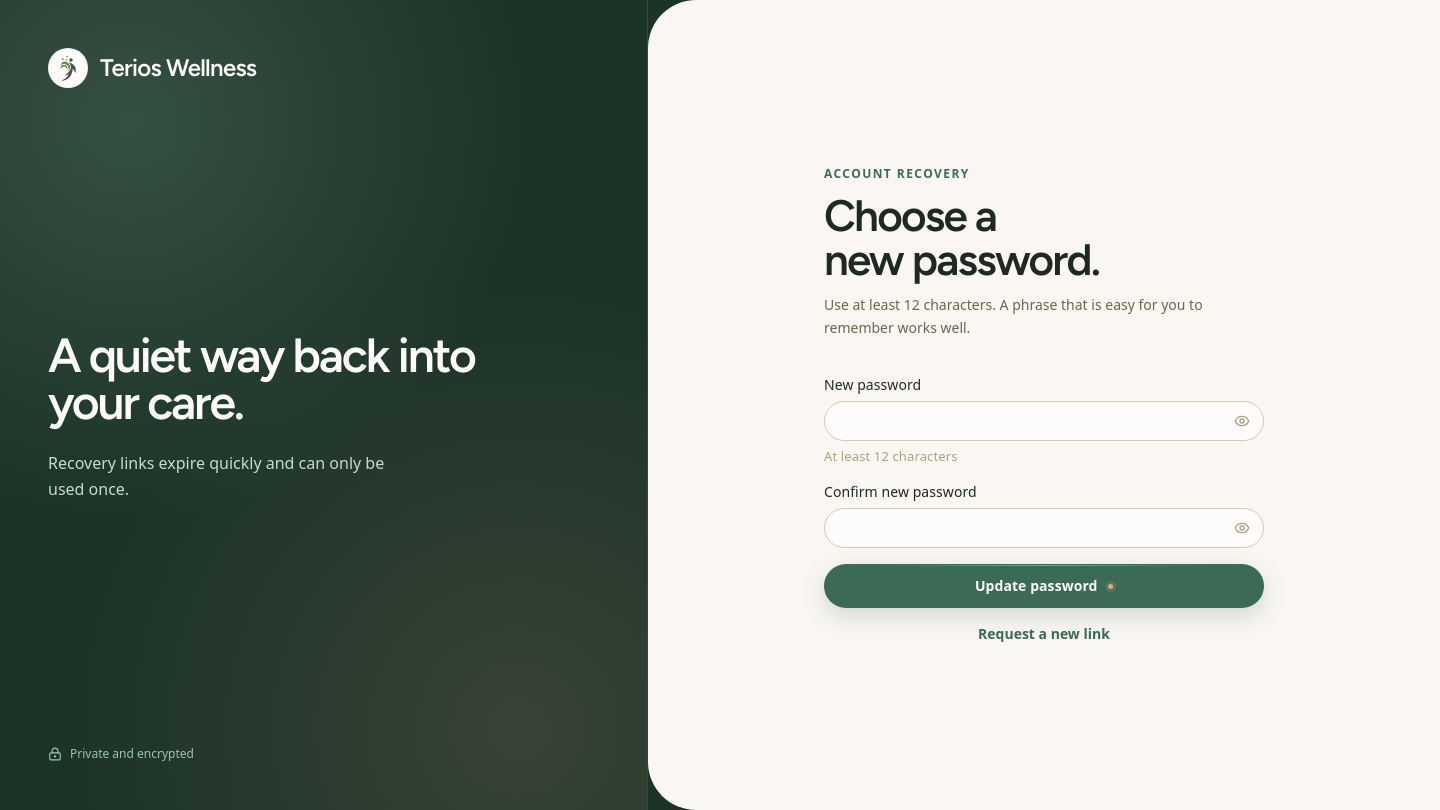
Test: client password reset › refuses a password shorter than the policy before any round trip
The image size is (1440, 810).
Type "short" into the password field labelled "New password". click: (1044, 421)
box: x1=824 y1=401 x2=1264 y2=441
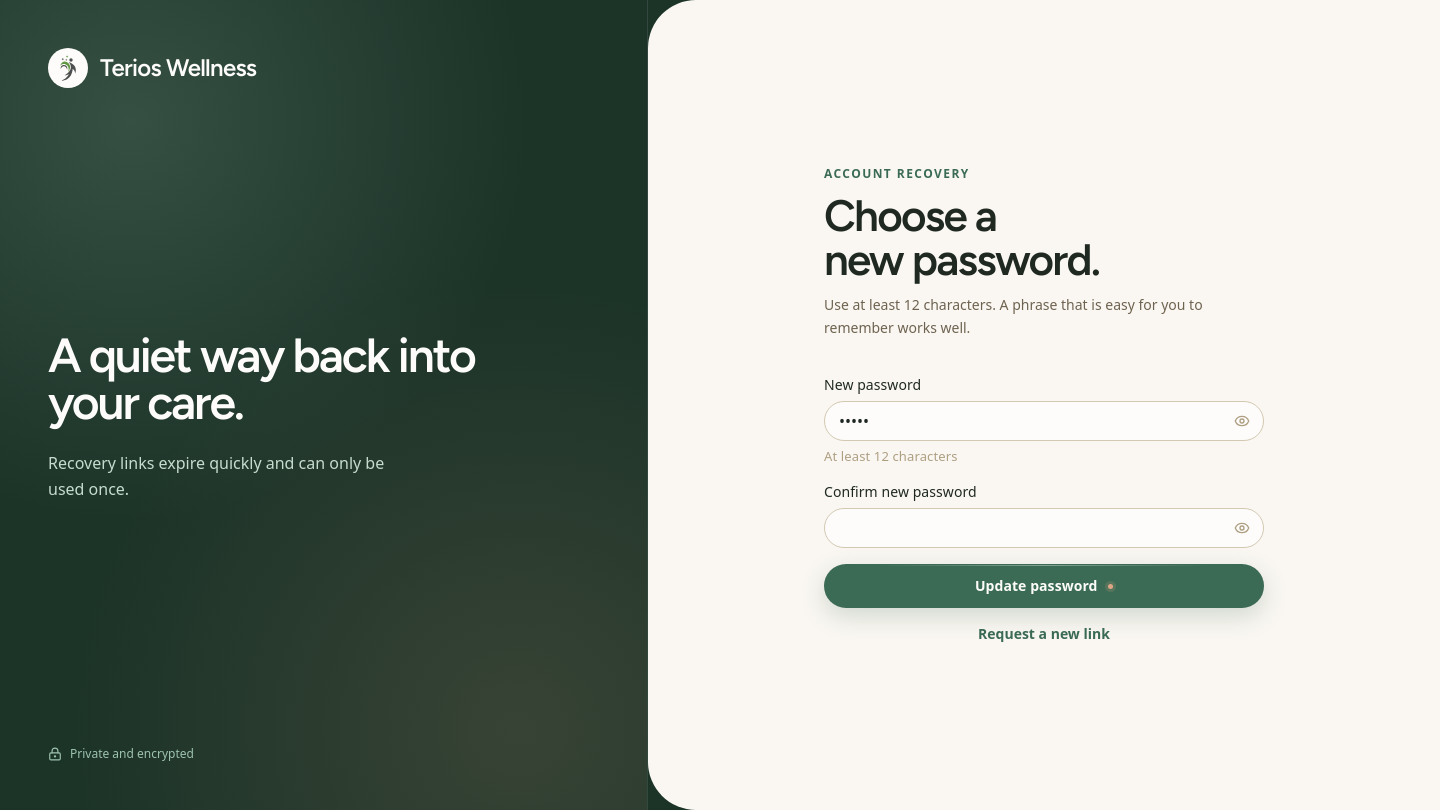
Type "short" into the password field labelled "Confirm new password". click: (1044, 528)
box: x1=824 y1=508 x2=1264 y2=548
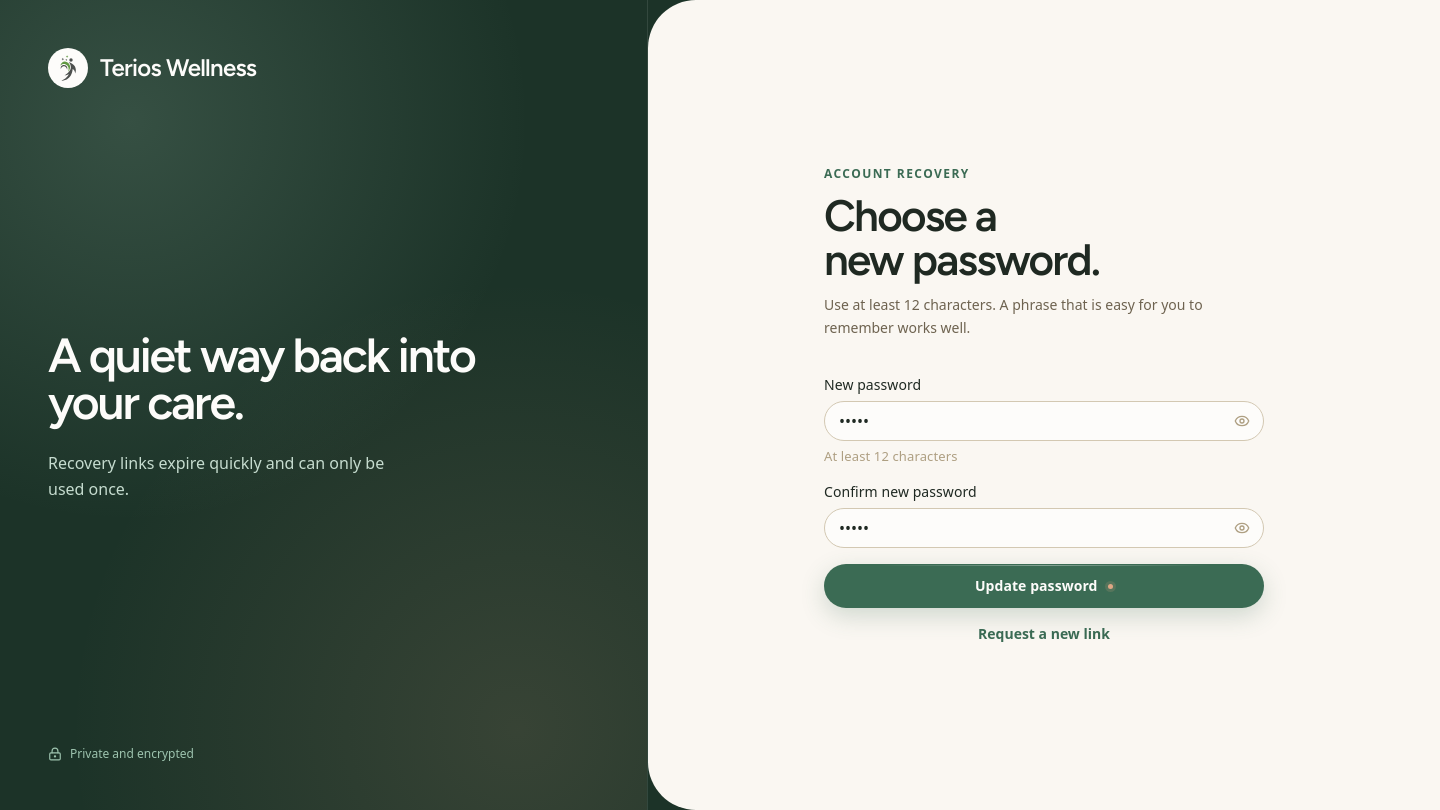
Click the button "Update password". click: (1044, 586)
box: x1=824 y1=564 x2=1264 y2=608
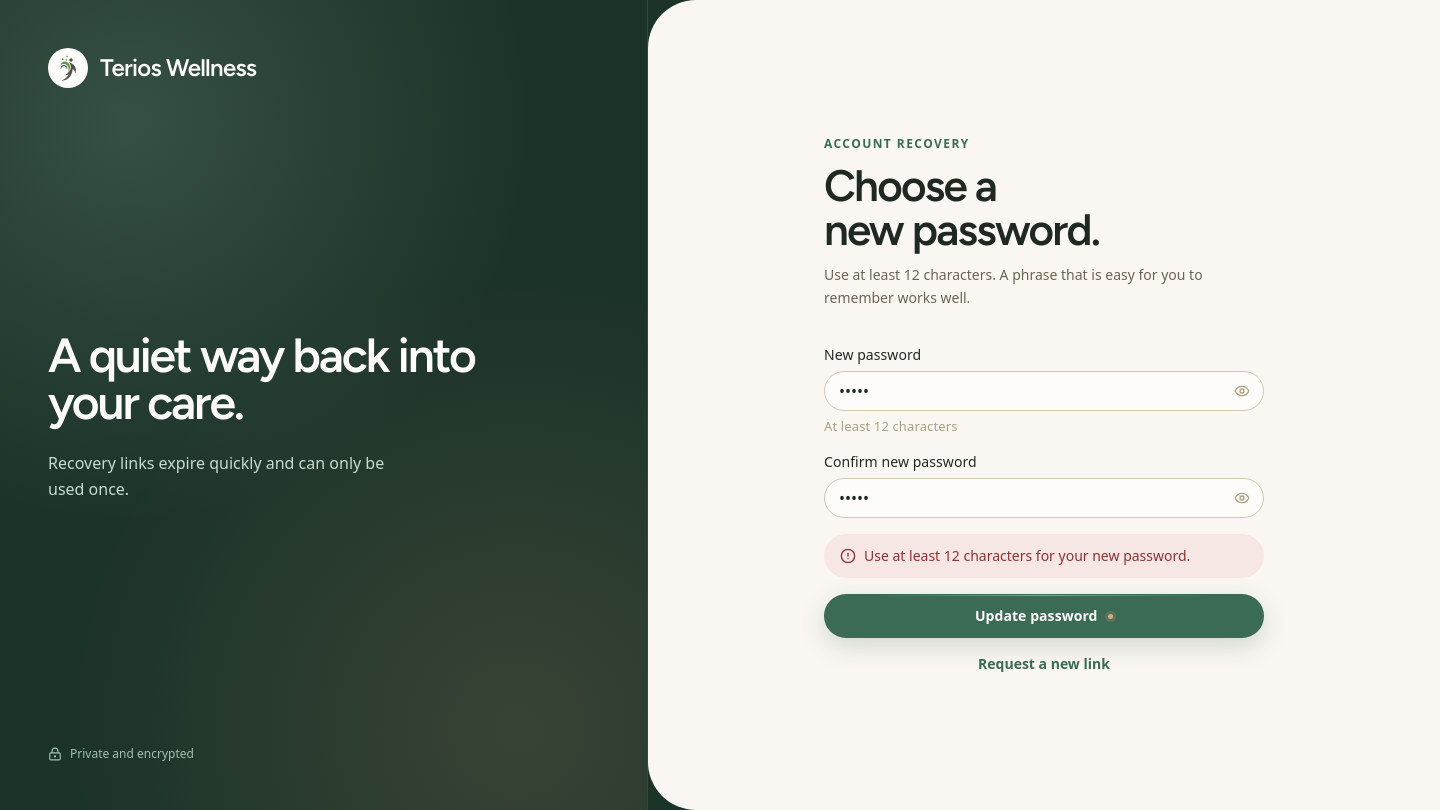
Now the message shows "at least 12 characters", box x1=864 y1=546 x2=1190 y2=565
